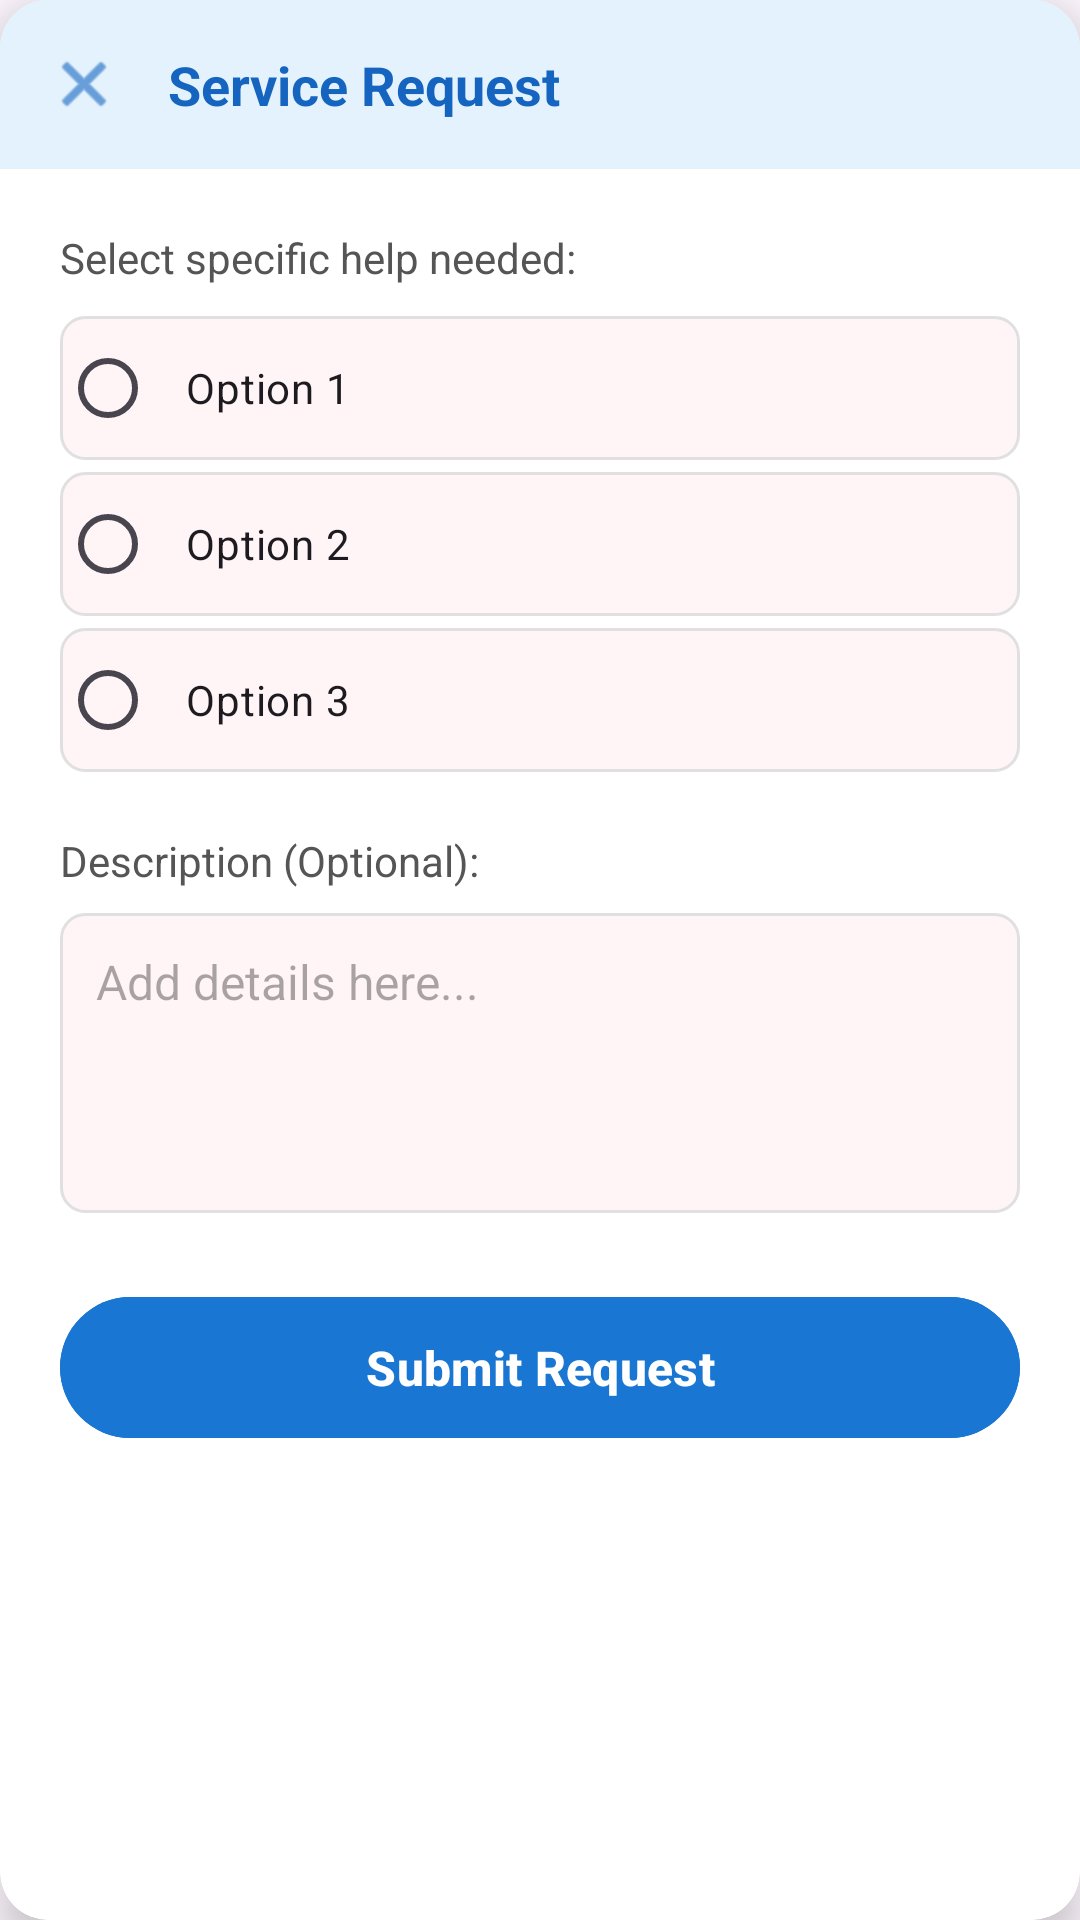

Screen size 1080 × 1920. Icon name, then its box in pixels as (x1, y1, x2, y2):
close clear cancel: (61, 61, 107, 107)
